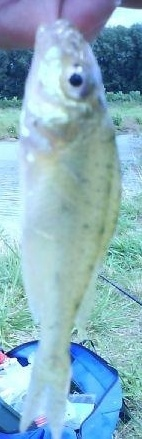Gymnocephalus cernuus: (20, 20, 122, 439)
